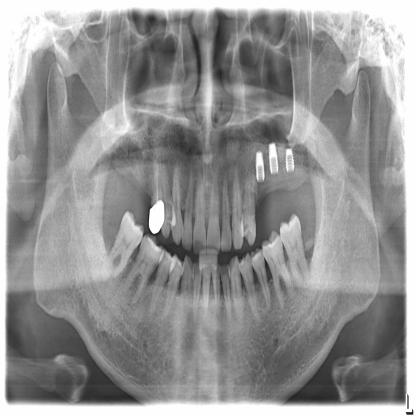Bicon: (266, 136, 281, 177), (253, 146, 267, 186), (283, 139, 296, 175)
